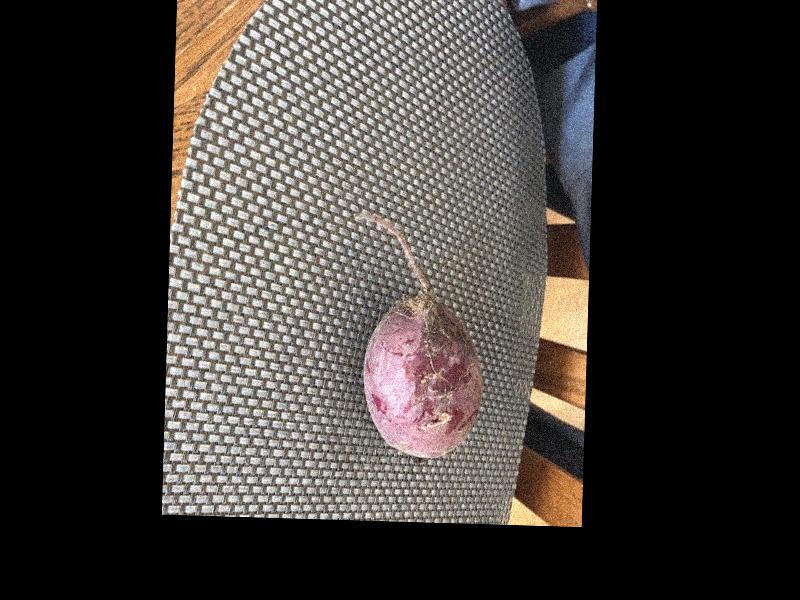Beet: (347, 211, 488, 457)
